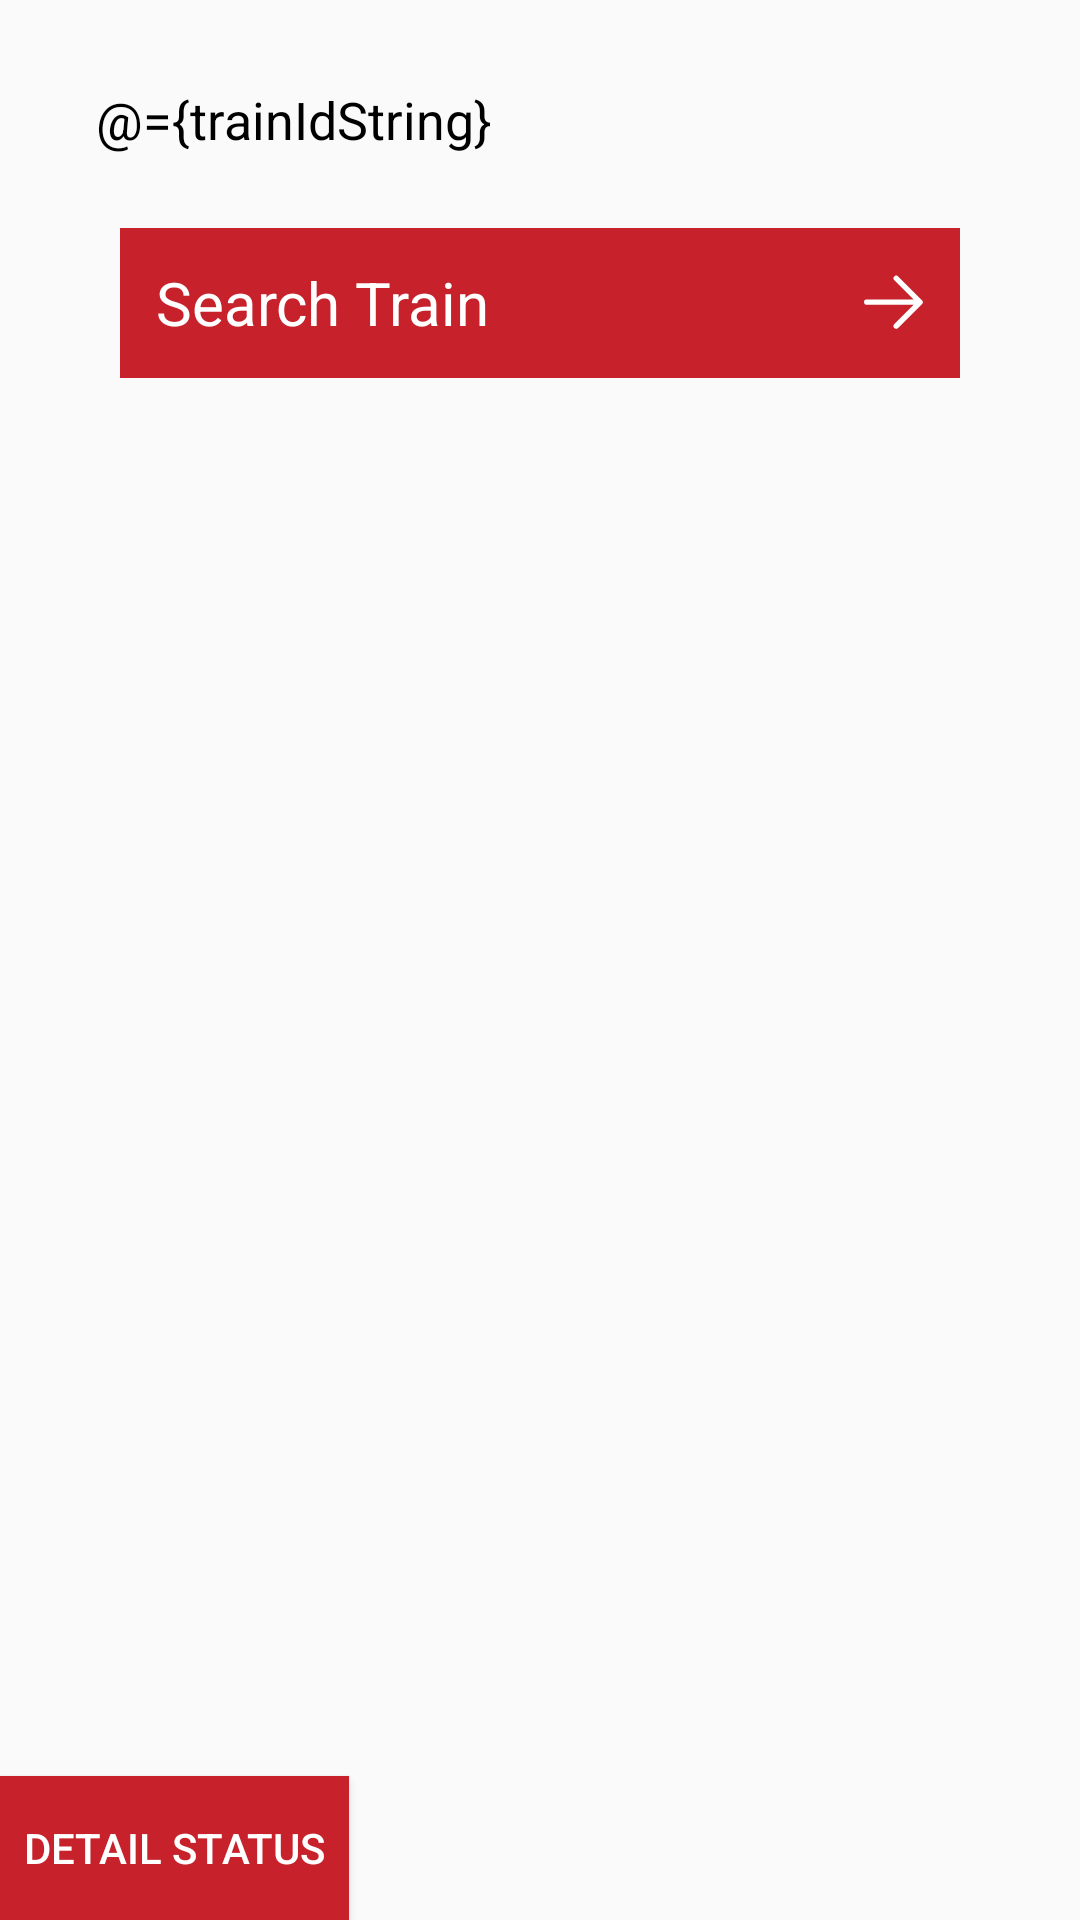

Named icons in this screenshot (1080w x 1920h) and their bounding boxes, (x1=x1, y1=y1, x2=x2, y2=y2):
arrow right: (x1=864, y1=275, x2=923, y2=329)
